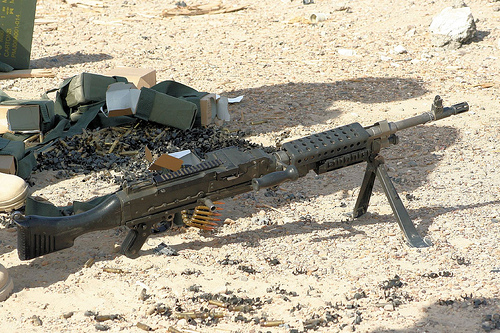rifle: (19, 94, 481, 299)
